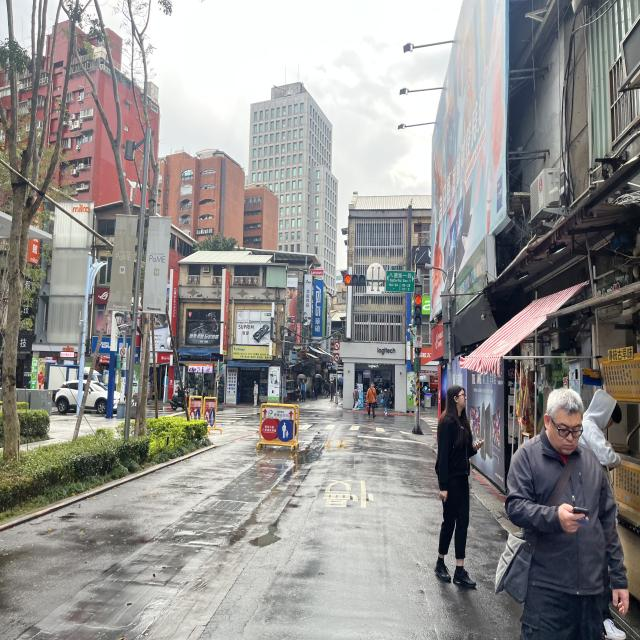red light: (344, 272, 368, 288), (414, 294, 422, 330)
